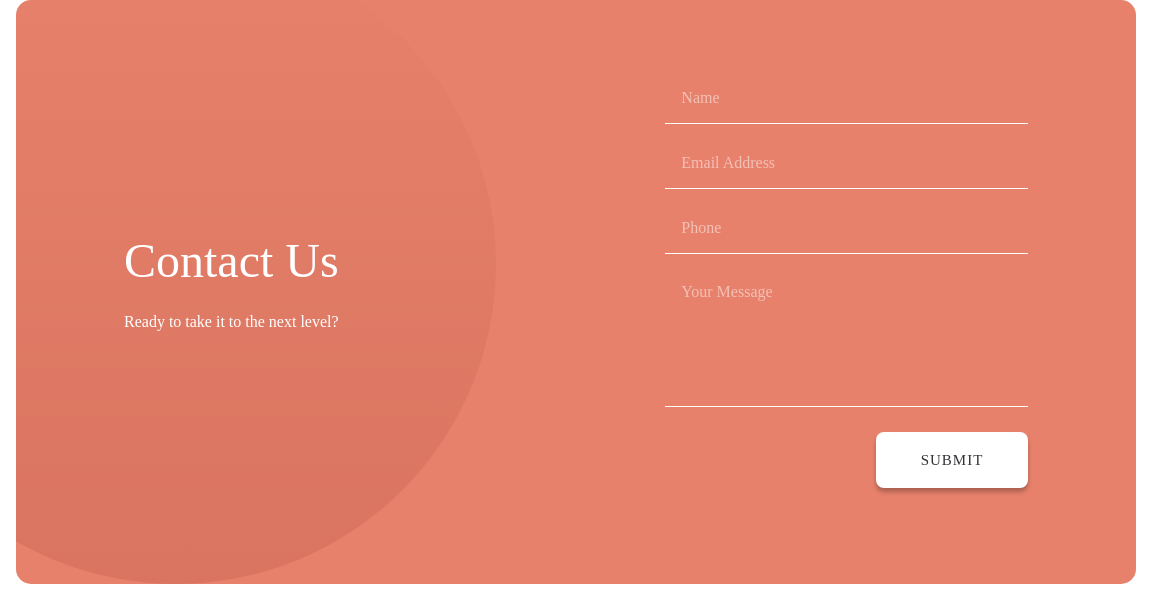
ContactForm › marks every empty field and sends nothing
Click the button "submit" at {"x": 952, "y": 460}, box top-left (876, 432), bottom-right (1028, 488)
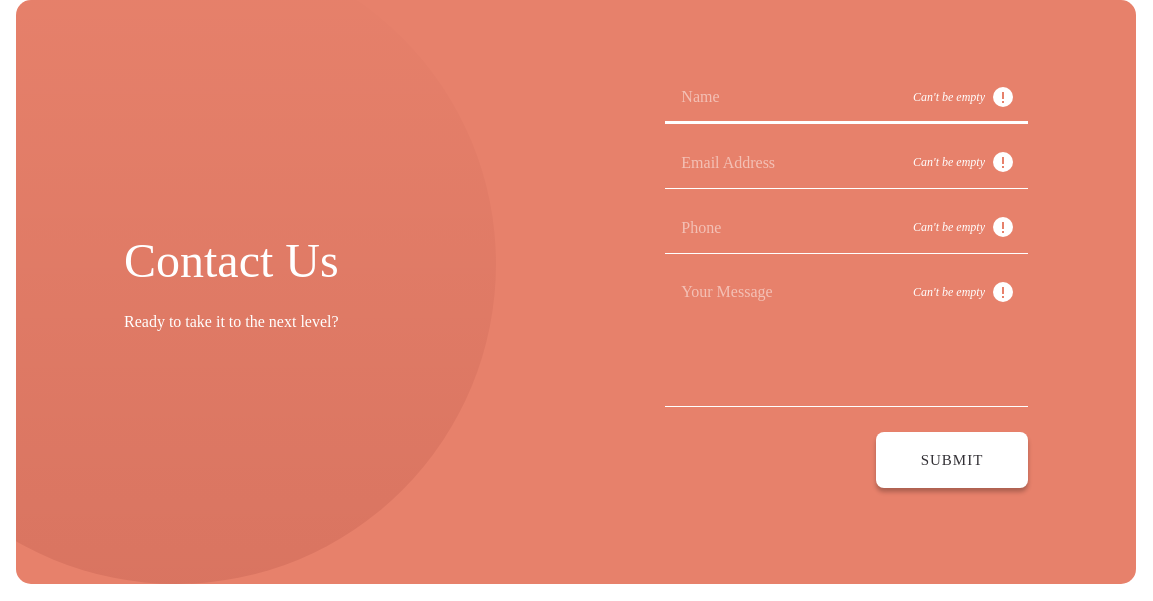
Result: the text "Can't be empty" is shown 4 times at top-left (913, 90), bottom-right (985, 104); top-left (913, 155), bottom-right (985, 169); top-left (913, 220), bottom-right (985, 234); top-left (913, 285), bottom-right (985, 299)
